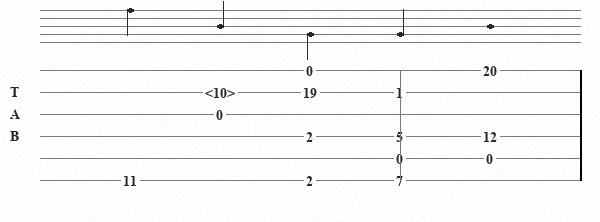0: (216, 107, 227, 121), (306, 63, 317, 77), (396, 151, 407, 165), (486, 151, 497, 165)
1: (396, 85, 407, 99)
11: (123, 173, 141, 187)
12: (483, 129, 501, 143)
19: (303, 85, 321, 99)
2: (306, 173, 317, 187), (306, 129, 317, 143)
20: (483, 63, 501, 77)
5: (396, 129, 407, 143)
7: (396, 173, 407, 187)
harmonic: (205, 85, 239, 99)
